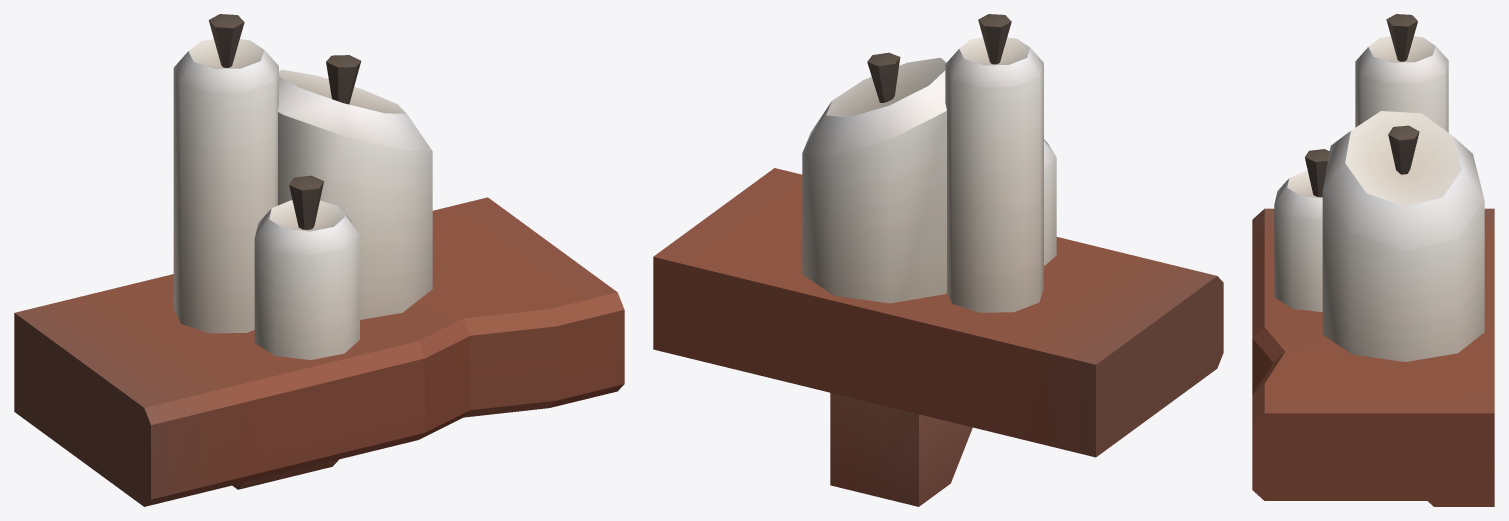
The model's file is shelf_small_candles.glb.
The picture shows the model from 3 angles, left to right: view 1: azimuth 30°, elevation 25°; view 2: azimuth 150°, elevation 25°; view 3: azimuth 270°, elevation 25°; orthographic projection. The views are drawn at different scales.
Parts seen in each view (by area): view 1: shelf_small_candles; view 2: shelf_small_candles; view 3: shelf_small_candles.
Part boxes in pixels (left/top/right/bottom): shelf_small_candles: left=14, top=14, right=624, bottom=506; shelf_small_candles: left=653, top=14, right=1223, bottom=506; shelf_small_candles: left=1252, top=14, right=1494, bottom=506.
Size of the model in its own units: 1 by 0.9942 by 0.5.
1 material, 1 textured.
